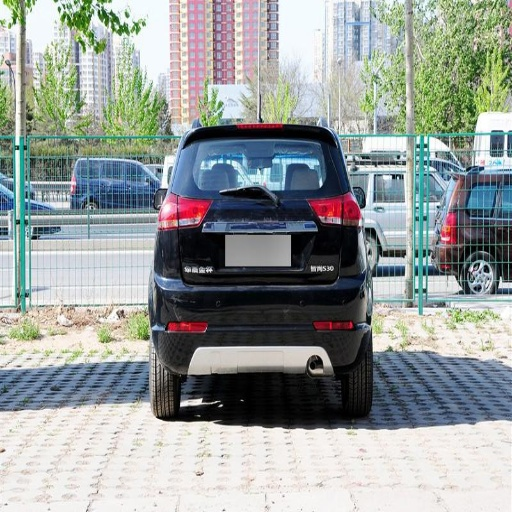back_bumper: (151, 229, 370, 374)
trunk: (175, 194, 350, 287)
